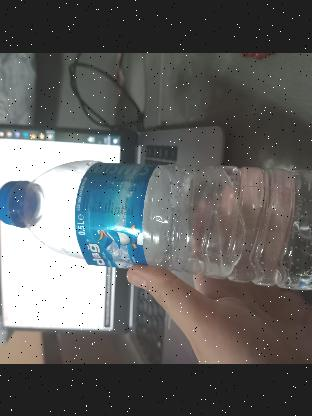Plastic Bottle: (0, 161, 312, 290)
